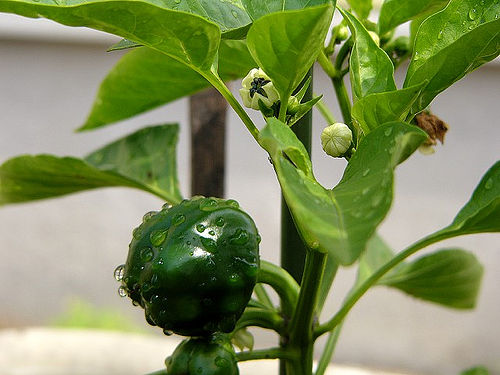capsicum: (123, 196, 300, 338)
